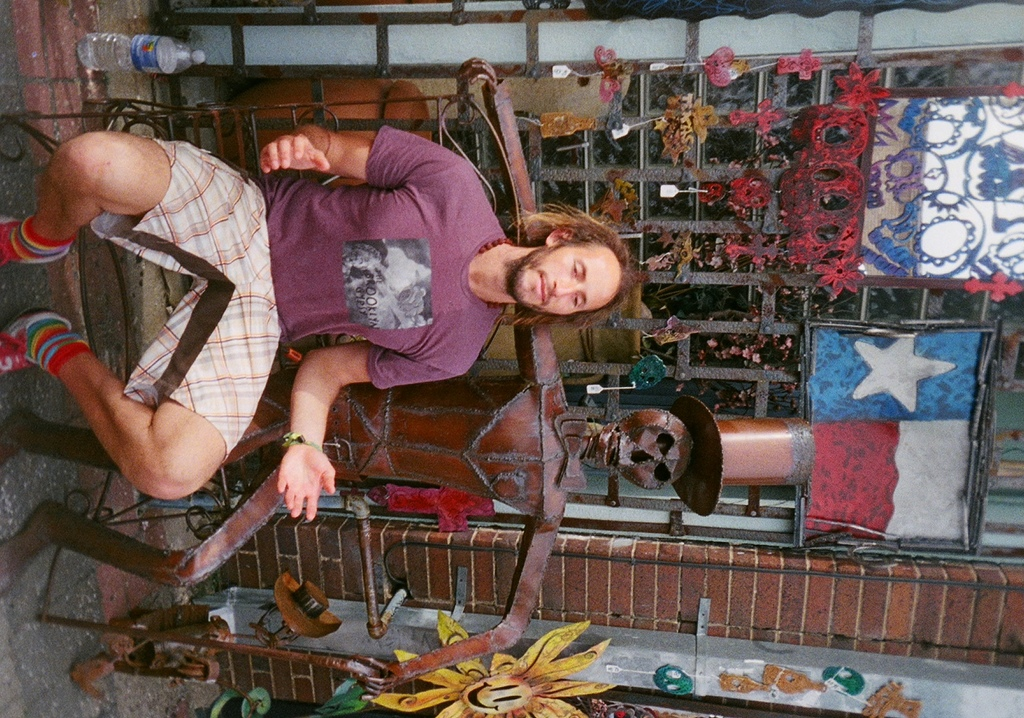Human_hand: (276, 440, 338, 525), (253, 129, 336, 178), (350, 650, 403, 703), (456, 53, 504, 94)
